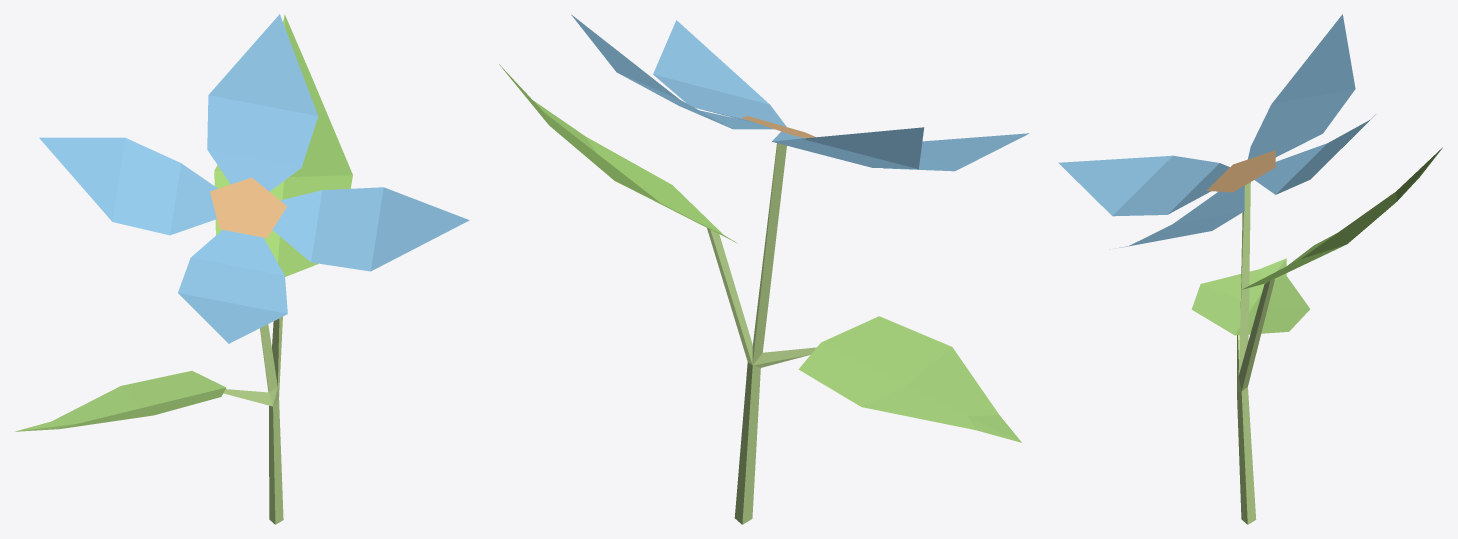
Rendered from Flower_a_TwoS_10.fbx.
The picture shows the model from 3 angles, left to right: view 1: azimuth 30°, elevation 25°; view 2: azimuth 150°, elevation 25°; view 3: azimuth 270°, elevation 25°; orthographic projection. The views are drawn at different scales.
Parts seen in each view (by area): view 1: Flower_a_TwoS_10; view 2: Flower_a_TwoS_10; view 3: Flower_a_TwoS_10.
Part boxes in pixels (left/top/right/bottom): Flower_a_TwoS_10: left=15, top=14, right=469, bottom=524; Flower_a_TwoS_10: left=499, top=14, right=1029, bottom=524; Flower_a_TwoS_10: left=1058, top=14, right=1442, bottom=524.
Size of the model in its own units: 56.35 by 64.59 by 49.54.
